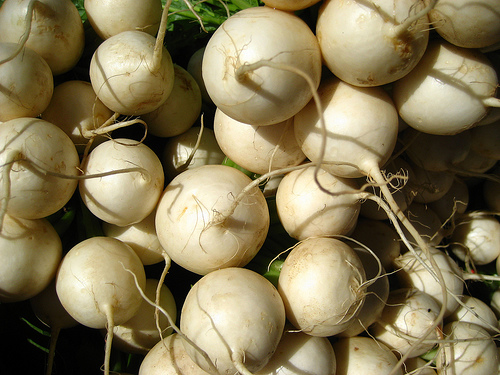turnip: (152, 164, 267, 274)
